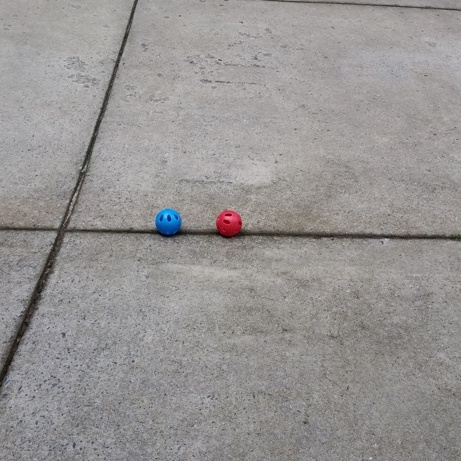ball: (152, 205, 185, 238), (213, 206, 245, 238)
